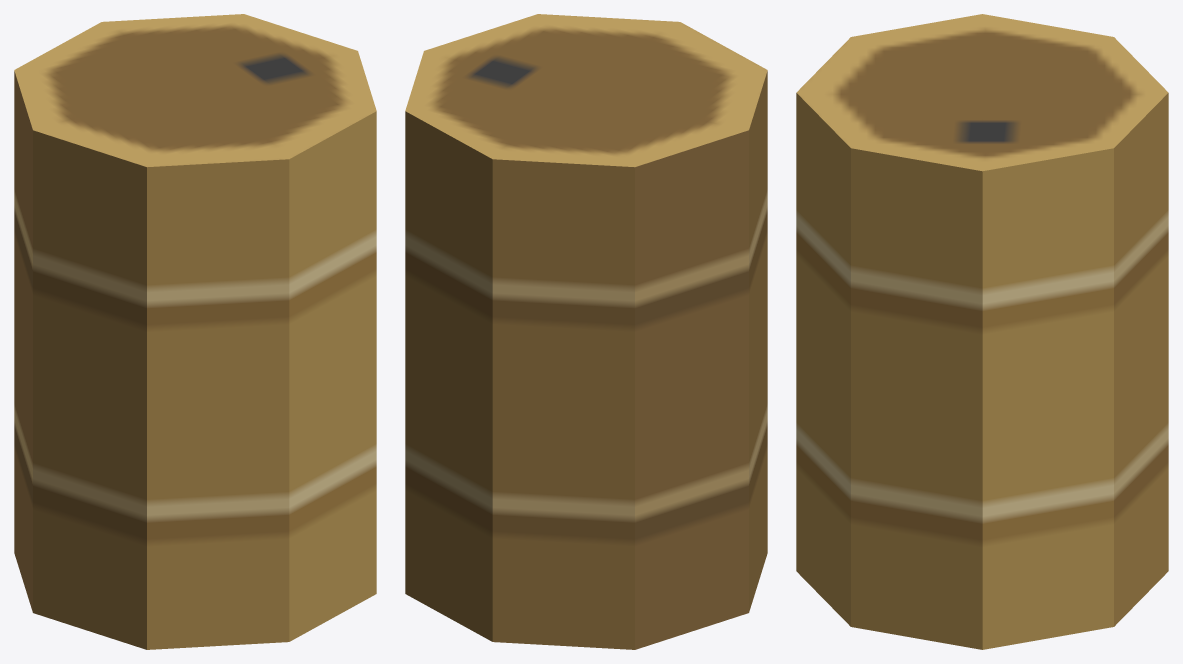
File: SM_Prop_Barrel_01.fbx
The picture shows the model from 3 angles, left to right: view 1: azimuth 30°, elevation 25°; view 2: azimuth 150°, elevation 25°; view 3: azimuth 270°, elevation 25°; orthographic projection.
Parts seen in each view (by area): view 1: SM_Prop_Barrel_01; view 2: SM_Prop_Barrel_01; view 3: SM_Prop_Barrel_01.
Part boxes in pixels (box(x1,y1,x2,y2)): SM_Prop_Barrel_01: box(14, 14, 376, 649); SM_Prop_Barrel_01: box(405, 14, 767, 649); SM_Prop_Barrel_01: box(796, 14, 1168, 649).
Bounding box in the file's own units: 0.9465 × 1.34 × 0.9465.
